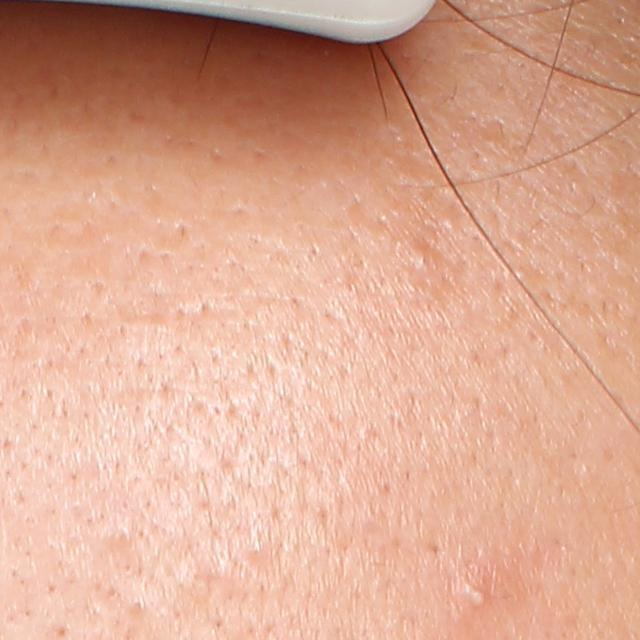comedo: (409, 242, 435, 273), (111, 524, 131, 547)
pustule: (460, 581, 490, 615)
